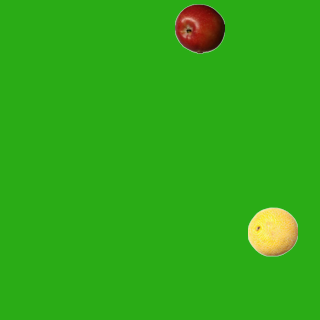Apple Braeburn: (174, 3, 224, 53)
Cantaloupe 1: (247, 206, 297, 256)
